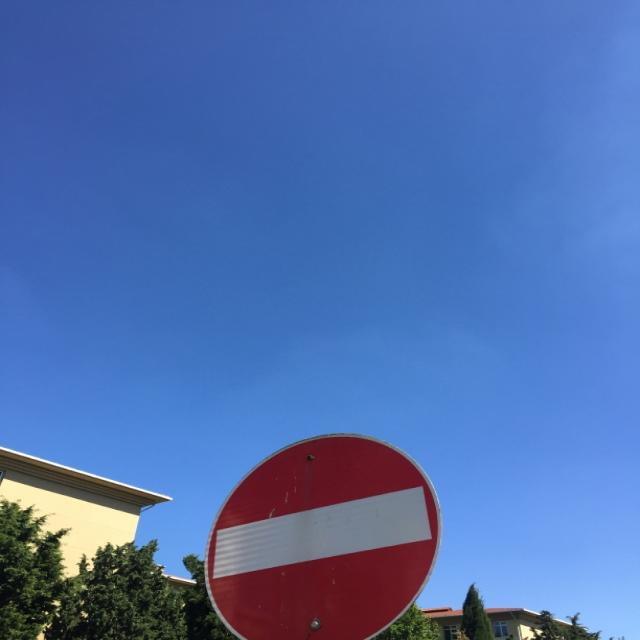girisyok: (204, 433, 441, 640)
